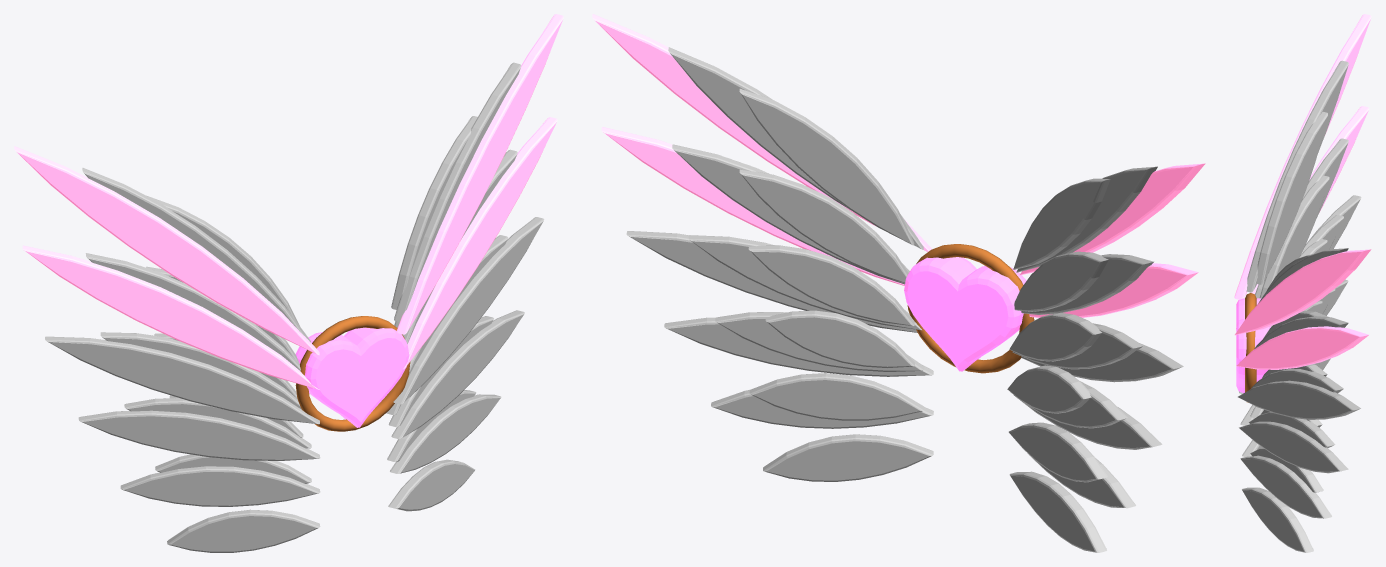
Rendered from back_eqmo3.glb.
The picture shows the model from 3 angles, left to right: view 1: azimuth 30°, elevation 25°; view 2: azimuth 150°, elevation 25°; view 3: azimuth 270°, elevation 25°; orthographic projection. The views are drawn at different scales.
Bounding box in the file's own units: 3.88 × 2.76 × 0.9483.
